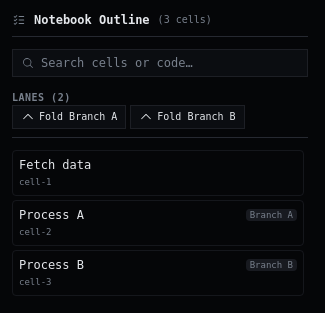
Scenario: OutlinePanel (T-04: view, search, fold per lane) › filters cells based on search input
Type "totalA" into the field with placeholder "Search cells or code…". click: (160, 63)
box: [12,49,308,77]
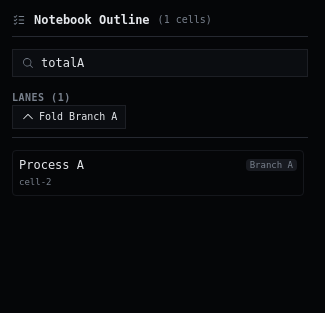
Expected: the text "Process A" is shown, [19,157,84,173]
Result: the button "Fetch data" is gone
Result: the button "Process B" is gone
